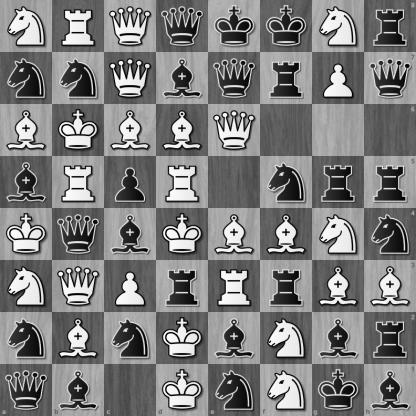B: (364, 260, 416, 312), (1, 105, 52, 156), (53, 313, 104, 364), (105, 105, 156, 156), (157, 105, 208, 156), (209, 209, 260, 260), (261, 209, 312, 260), (313, 261, 364, 312)
K: (156, 364, 209, 416), (1, 209, 52, 260), (53, 105, 104, 156), (157, 209, 208, 260), (157, 313, 208, 364)
N: (260, 364, 312, 416), (1, 1, 52, 52), (1, 261, 52, 312), (261, 313, 312, 364), (313, 1, 364, 52), (313, 209, 364, 260)
P: (105, 261, 156, 312), (313, 53, 364, 104)
Q: (53, 261, 104, 312), (105, 1, 156, 52), (105, 53, 156, 104), (209, 105, 260, 156)
R: (53, 1, 104, 52), (53, 157, 104, 208), (157, 157, 208, 208), (209, 261, 260, 312)
b: (52, 364, 104, 416), (364, 364, 416, 416), (1, 157, 52, 208), (105, 209, 156, 260), (157, 53, 208, 104), (209, 313, 260, 364), (313, 313, 364, 364)
board: (0, 0, 415, 415)
k: (312, 364, 364, 416), (209, 1, 260, 52), (261, 1, 312, 52)
n: (209, 364, 260, 416), (364, 209, 416, 260), (1, 53, 52, 104), (1, 313, 52, 364), (53, 53, 104, 104), (105, 313, 156, 364), (261, 157, 312, 208)
p: (105, 157, 156, 208)
q: (0, 364, 52, 416), (364, 52, 416, 104), (53, 209, 104, 260), (157, 1, 208, 52), (209, 53, 260, 104)
r: (364, 156, 416, 209), (364, 0, 416, 52), (364, 312, 416, 364), (157, 261, 208, 312), (261, 53, 312, 104), (261, 261, 312, 312), (313, 157, 364, 208)
